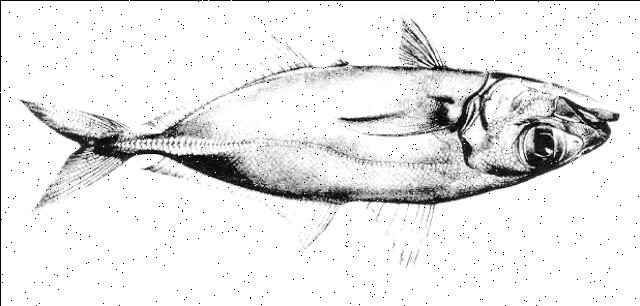Mulut: (572, 86, 622, 150)
Sirip Anal: (143, 26, 303, 132)
Sirip Dada: (337, 91, 448, 145)
Sirip Ekor: (16, 88, 132, 216)
Sirip Perut: (388, 13, 446, 75)
Sirip Punggung: (140, 156, 442, 282)
